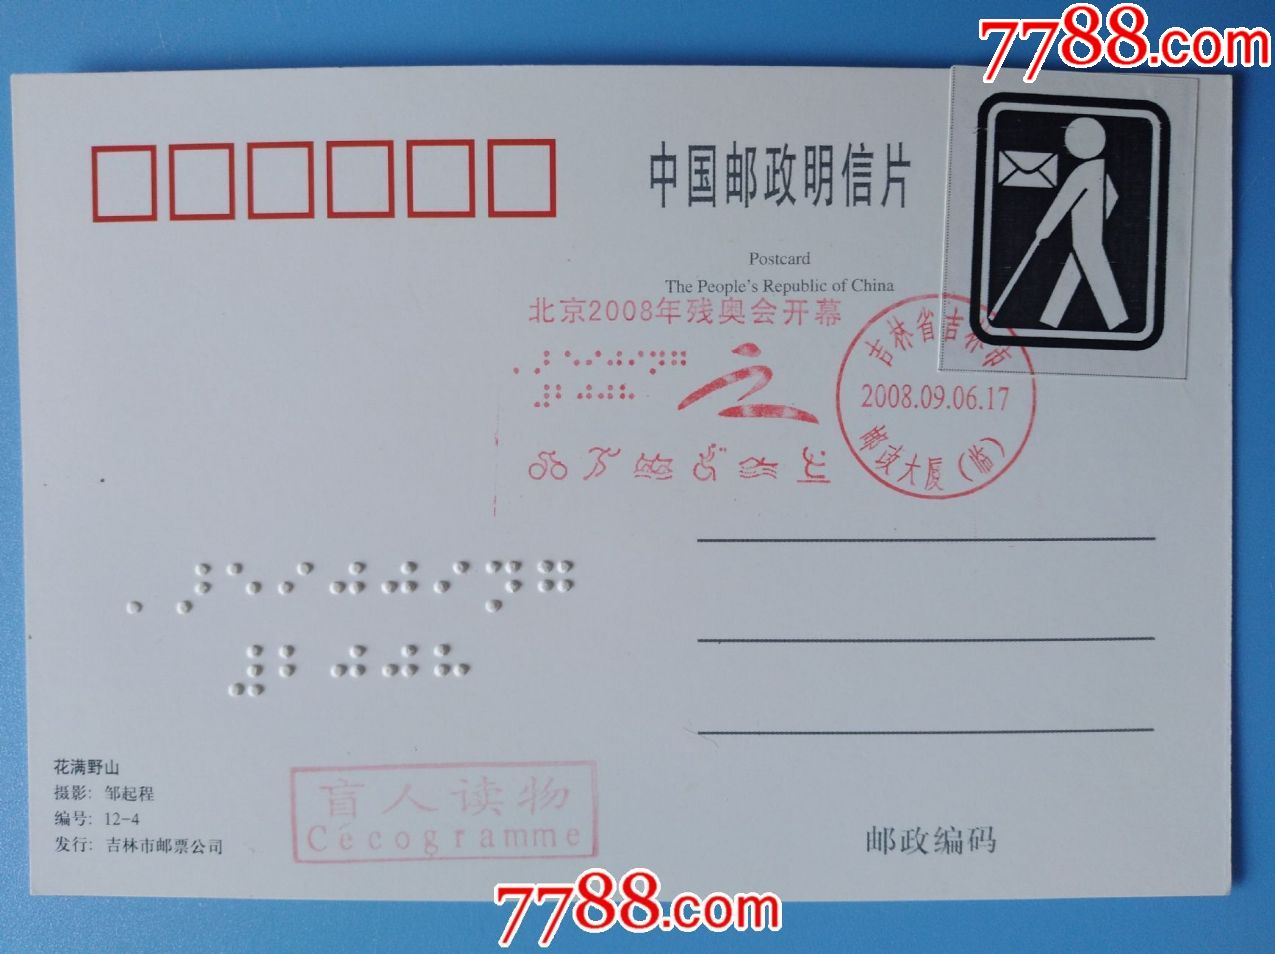Braille: (483, 555, 524, 617), (329, 641, 369, 703), (382, 641, 420, 706), (328, 555, 367, 617), (432, 642, 470, 705), (224, 558, 264, 617), (278, 640, 315, 701), (537, 556, 575, 615), (276, 556, 314, 615), (434, 556, 471, 616), (381, 555, 418, 615), (227, 643, 264, 702), (176, 560, 211, 620), (125, 562, 161, 618), (563, 348, 581, 377), (585, 348, 602, 377), (575, 384, 593, 410), (628, 349, 645, 378), (670, 348, 687, 375), (649, 350, 666, 377), (534, 350, 551, 377), (607, 349, 623, 377), (620, 384, 636, 412), (534, 384, 551, 410), (513, 348, 529, 375), (598, 384, 614, 411), (556, 384, 570, 410)
